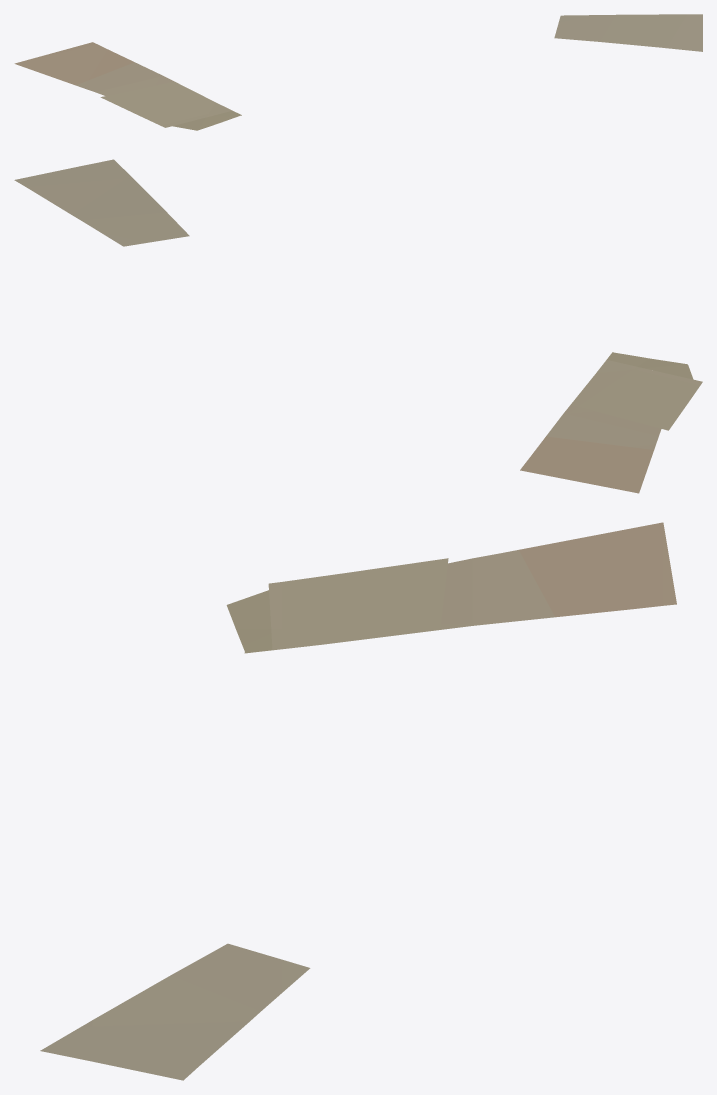
File: farm_25_10_soil.glb
3 views of the same model, one above another, from view 1: azimuth 30°, elevation 25°; view 2: azimuth 150°, elevation 25°; view 3: azimuth 270°, elevation 25° (orthographic). The views are drawn at different scales.
Parts seen in each view (by area): view 1: geometry_0; view 2: geometry_0; view 3: geometry_0.
Boxes of the visible parts, x1,y1,x2,y2 form: geometry_0: [14, 14, 702, 130]; geometry_0: [14, 159, 702, 493]; geometry_0: [40, 522, 676, 1080].
Bounding box in the file's own units: 553 × 5.79 × 268.
